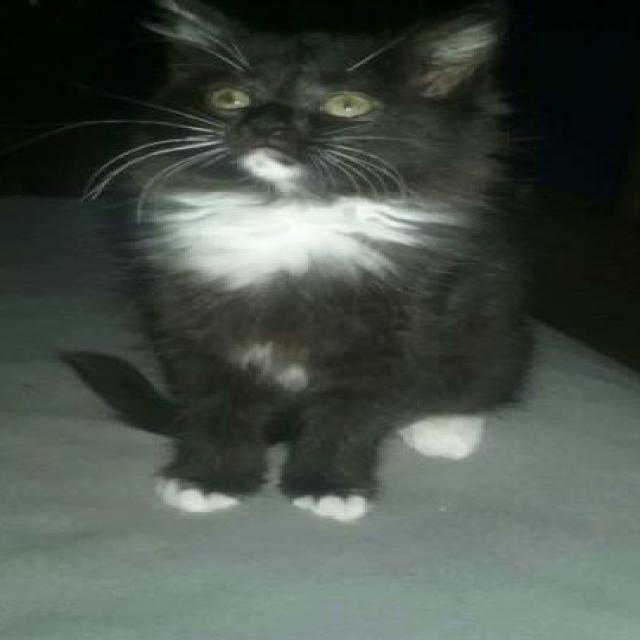Tuxedo: (57, 0, 543, 525)
